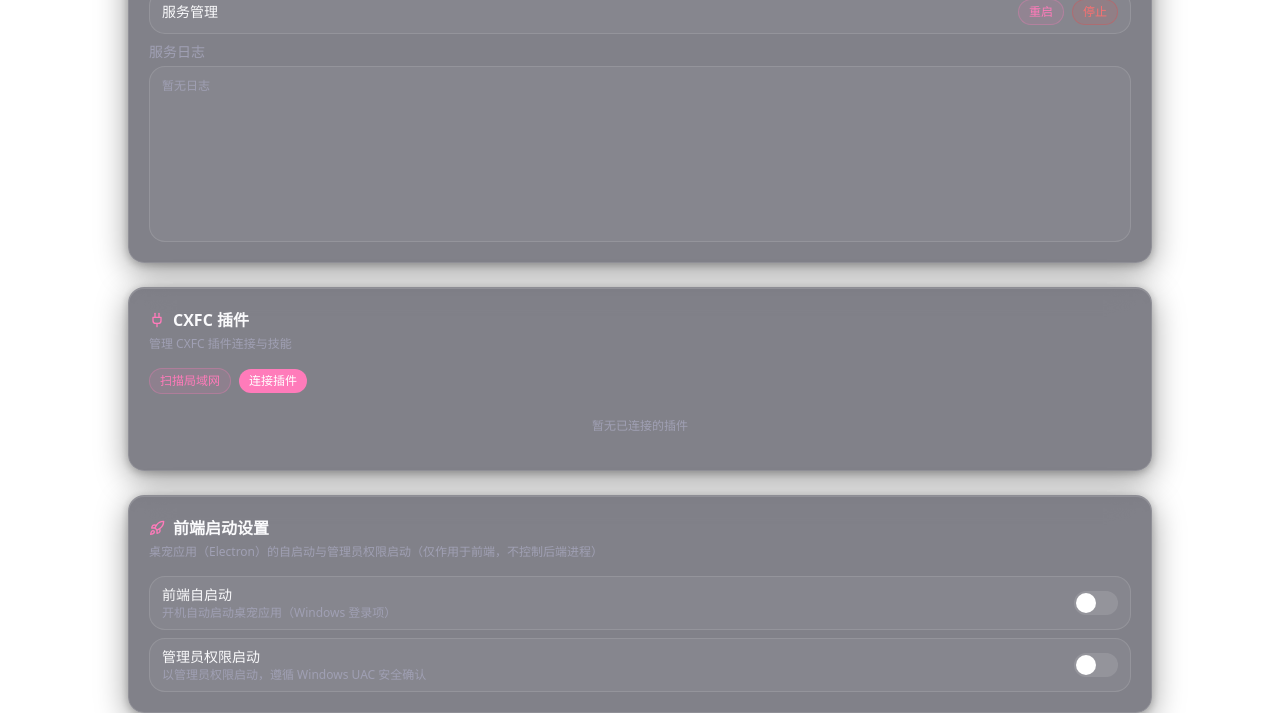
Test case: SettingsPage 五区块 › 前端启动设置：桌面模式下读取并更新自启动/管理员权限开关
(page scrolled)
What coordinates should you click on to do the following:
click the switch named "前端自启动"
I would click on:
 (1096, 603)
Its box is [1074, 591, 1118, 615].
(page scrolled)
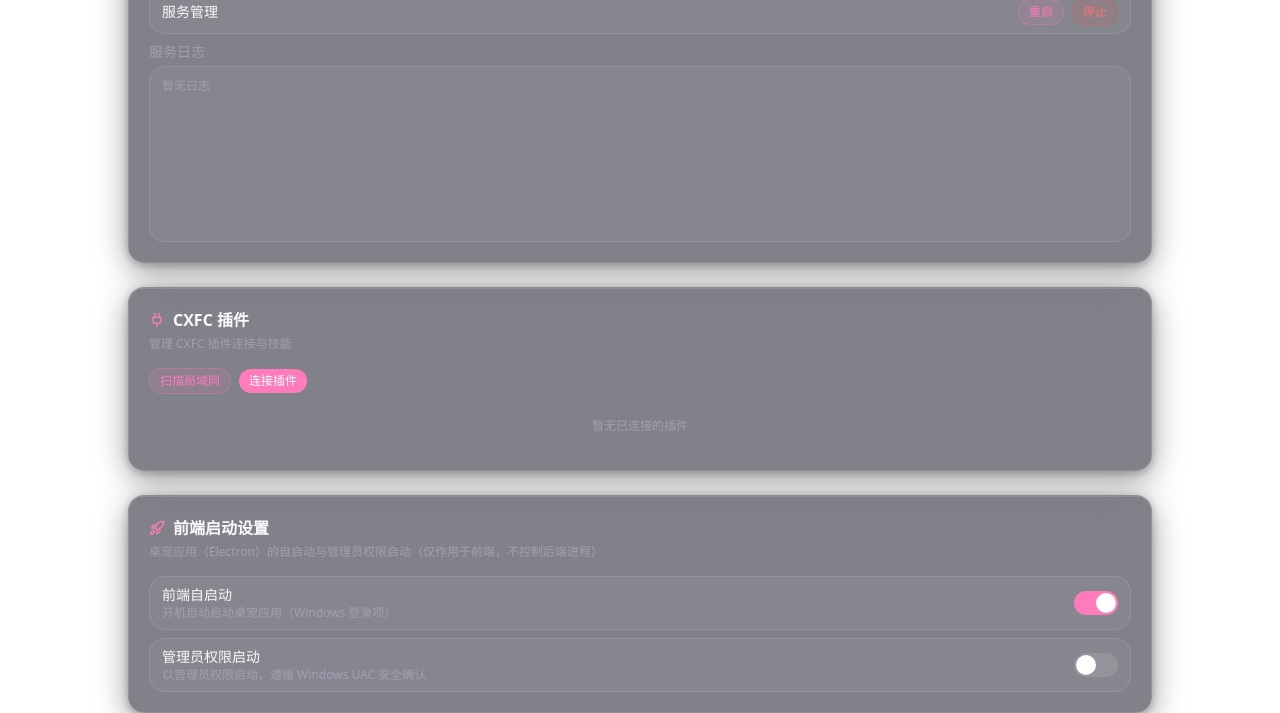
// 切换管理员权限：返回未提权 → 提示重启生效
What coordinates should you click on to do the following:
click the switch named "管理员权限启动"
I would click on:
 (1096, 665)
Its box is [1074, 653, 1118, 677].
(page scrolled)
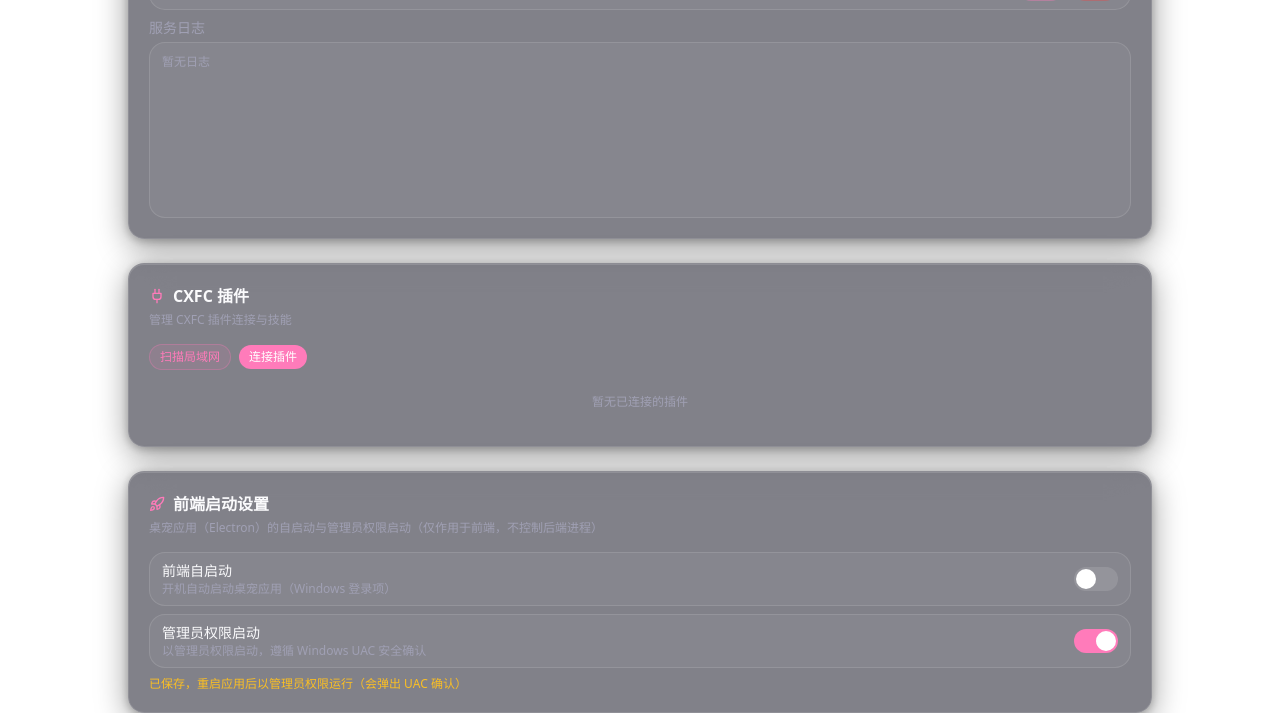
Now the text "已保存，重启应用后以管理员权限运行（会弹出 UAC 确认）" is shown, box [149, 675, 467, 692]
